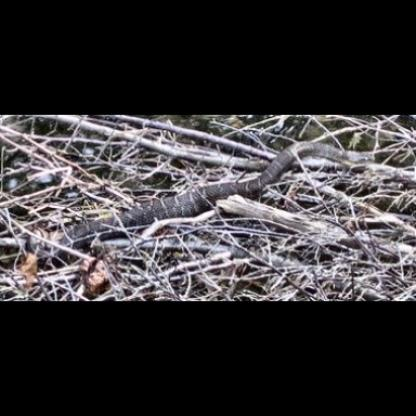Snake: (10, 112, 415, 243)
